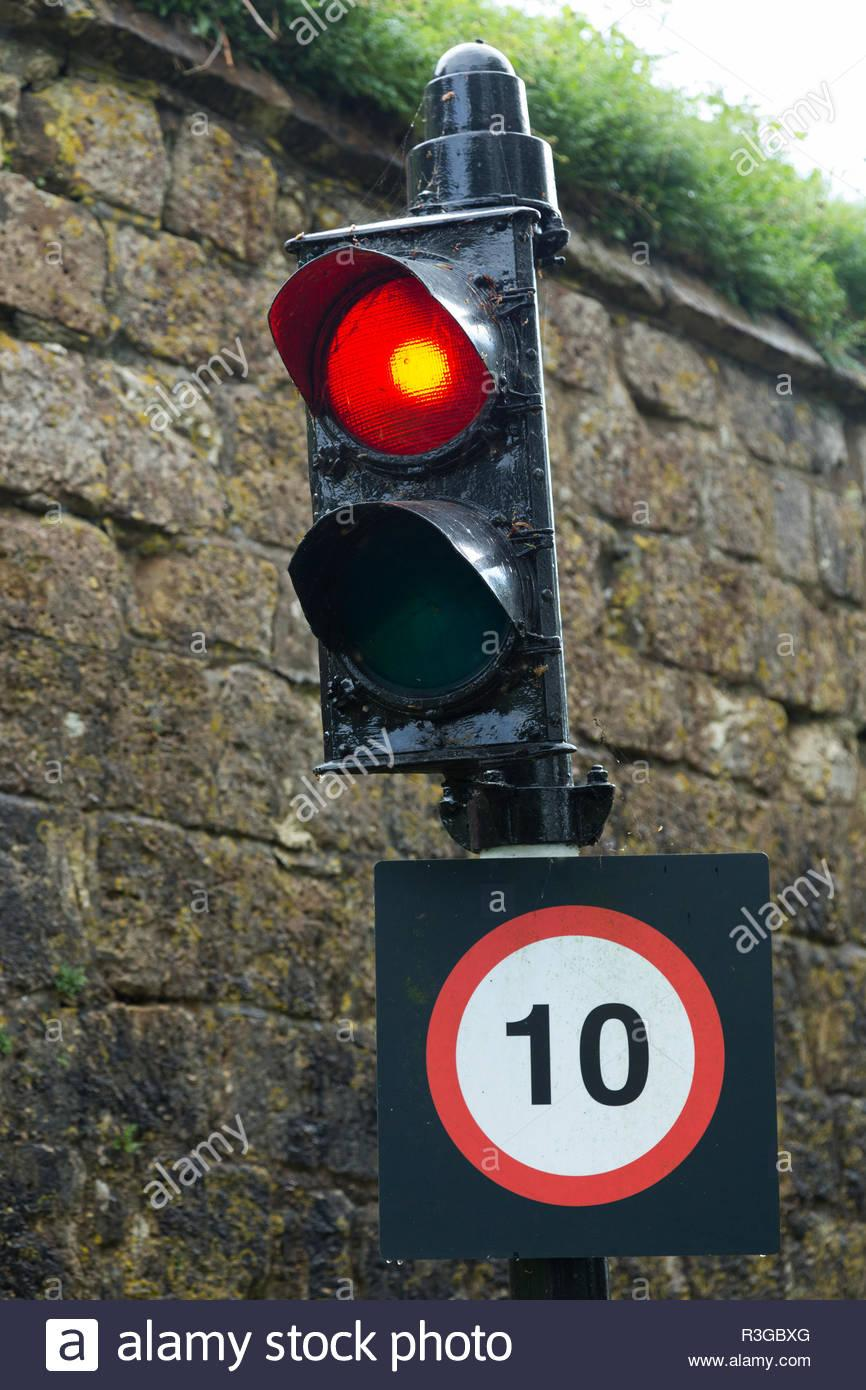red: (260, 187, 617, 750)
